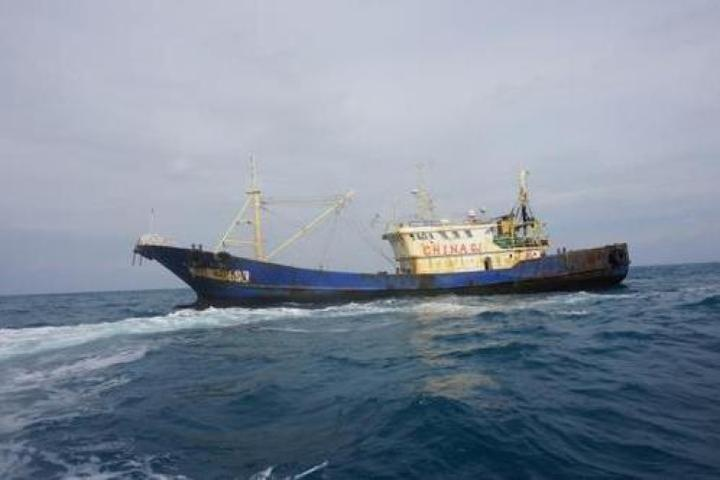otherboat: (130, 169, 634, 312)
